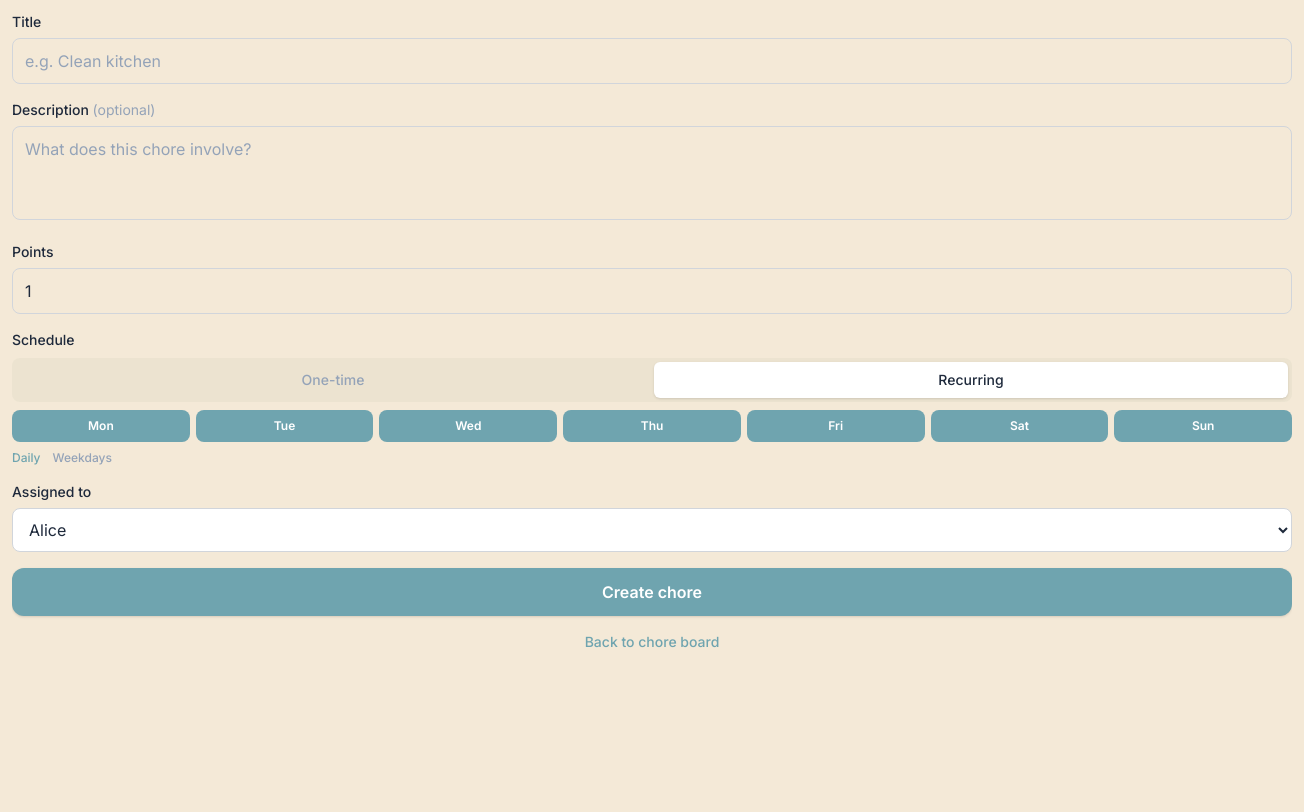
Test case: CreateChoreForm › shows error alert when createChoreTemplate returns an error
Click the button "Create chore" at (652,592), box [12,568,1292,616]
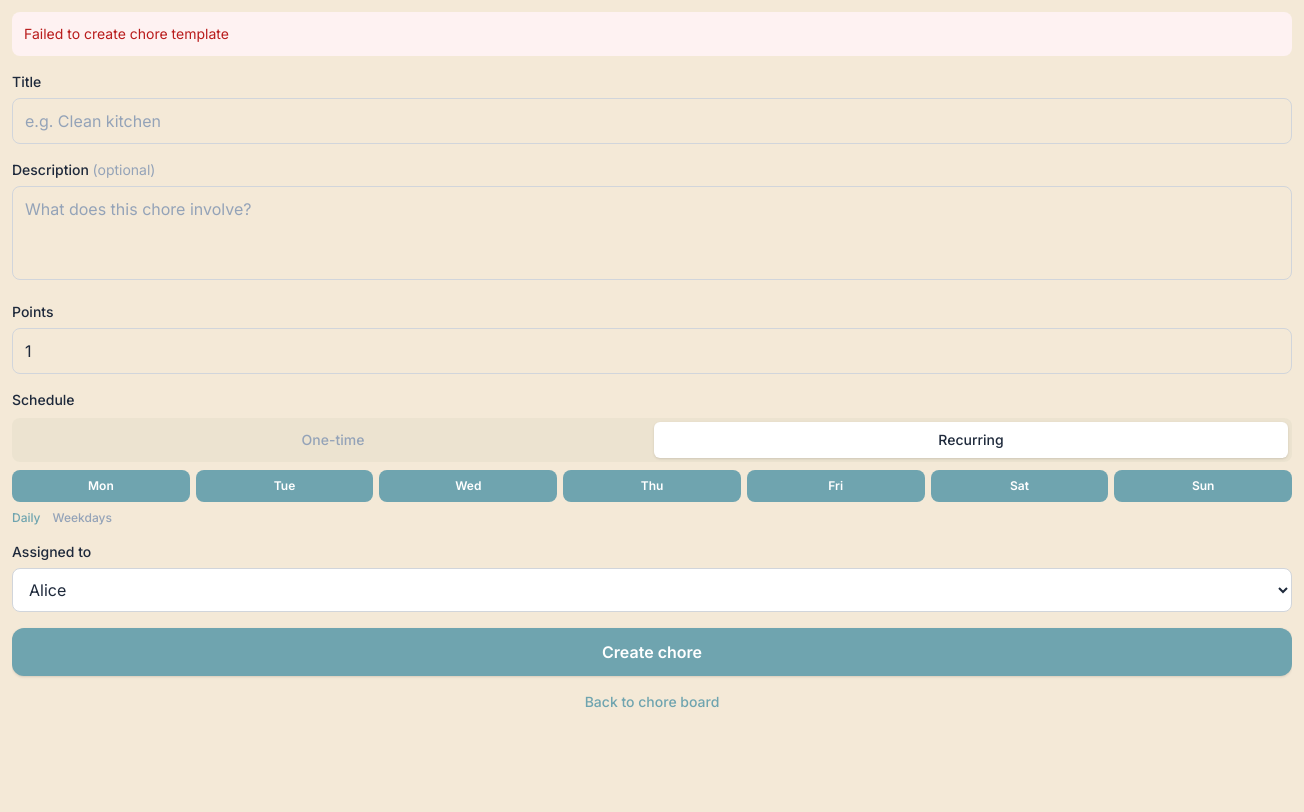
Result: the text "Failed to create chore template" is shown at [12,12,1292,56]
